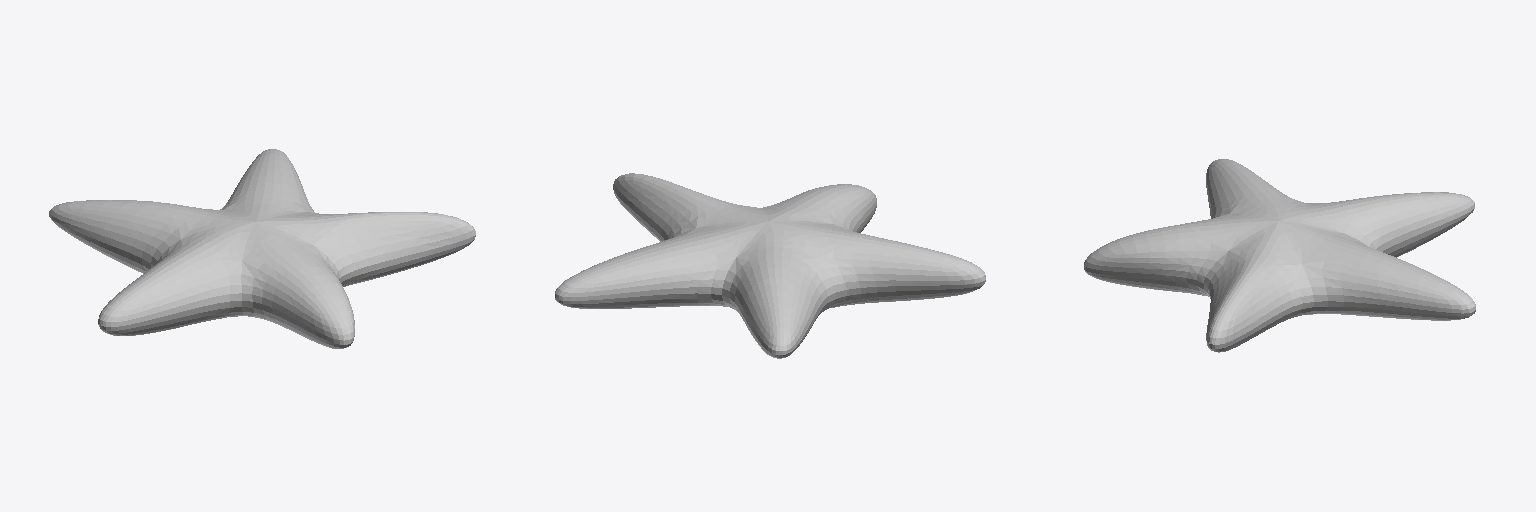
File: starfish.obj
3 renders of one model, left to right at view 1: azimuth 30°, elevation 25°; view 2: azimuth 150°, elevation 25°; view 3: azimuth 270°, elevation 25°, orthographic.
Parts seen in each view (by area): view 1: Mesh; view 2: Mesh; view 3: Mesh.
Boxes of the visible parts, x1,y1,x2,y2 form: Mesh: [49, 149, 475, 348]; Mesh: [555, 173, 985, 358]; Mesh: [1084, 159, 1475, 352].
Bounding box in the file's own units: 433 × 76.82 × 394.